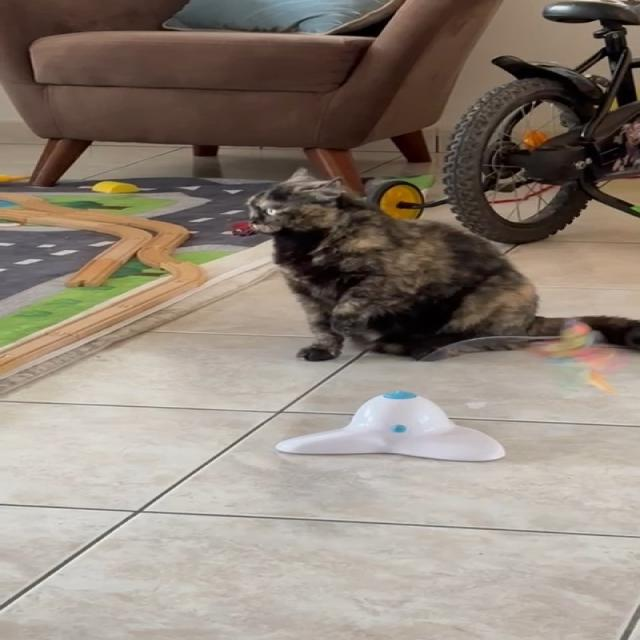authorized: (244, 166, 639, 362)
